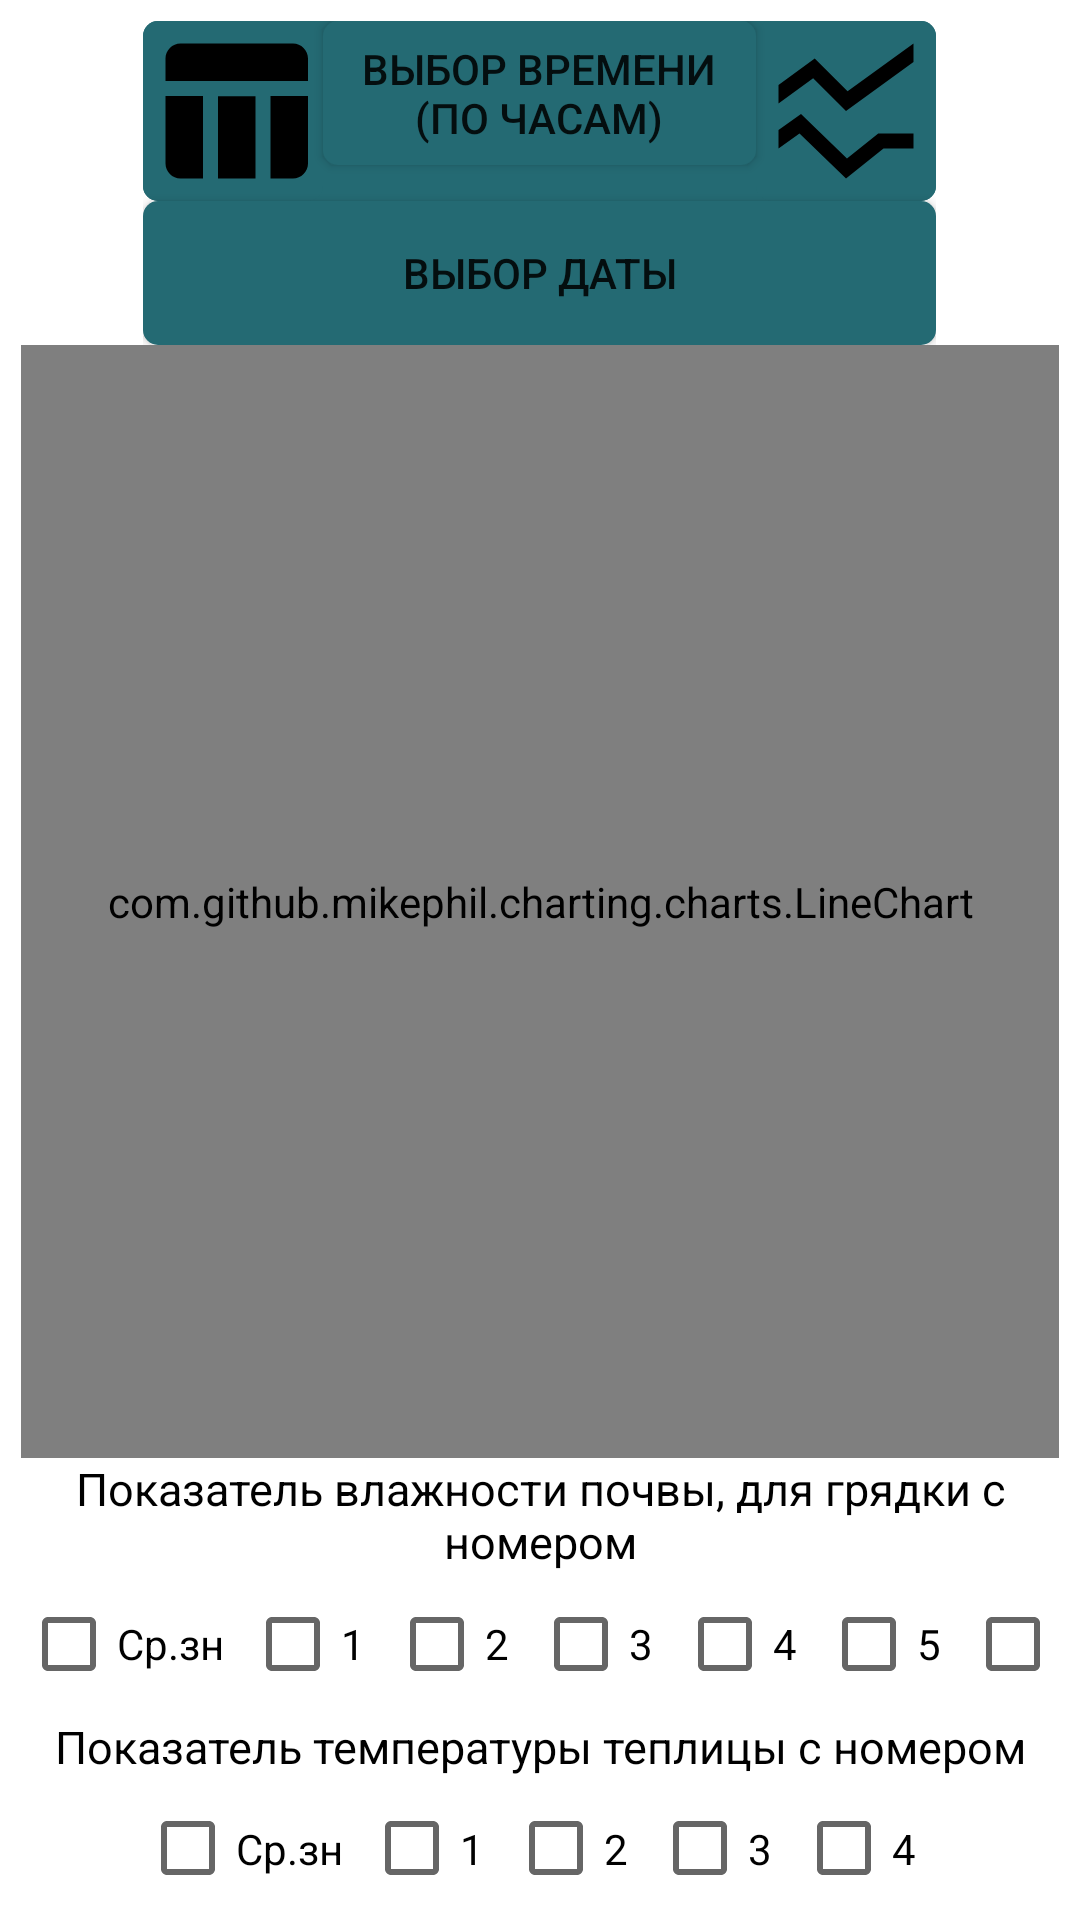

Named icons in this screenshot (1080w x 1920h) and their bounding boxes, box=[x1, y1, x2, y2]:
ssid chart: box=[778, 44, 914, 178]
table chart: box=[165, 43, 308, 179]
